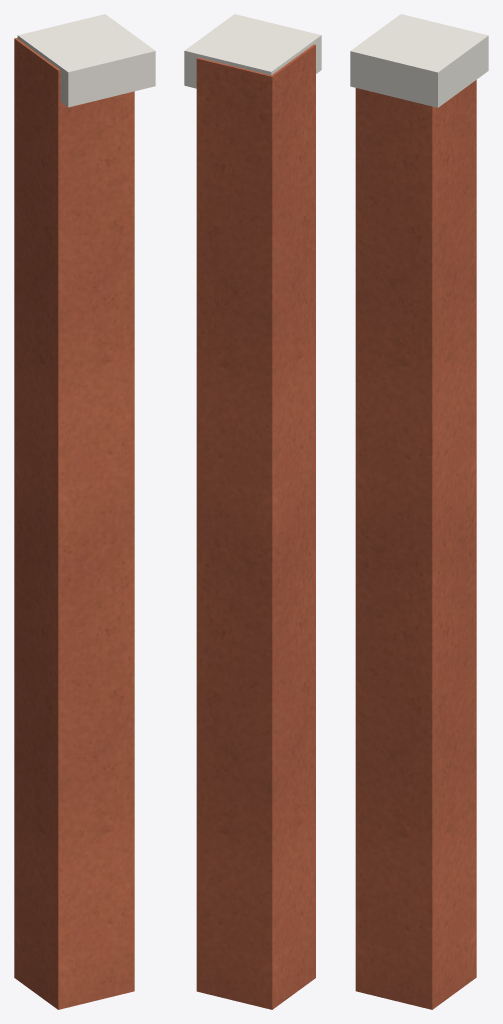
The model's file is corner_shop.glb.
The picture shows the model from 3 angles, left to right: view 1: azimuth 30°, elevation 25°; view 2: azimuth 150°, elevation 25°; view 3: azimuth 330°, elevation 25°; orthographic projection.
Visible parts, largest first — view 1: corner_shop_render, corner_shop_trim; view 2: corner_shop_render, corner_shop_trim; view 3: corner_shop_render, corner_shop_trim.
Boxes of the visible parts, x1,y1,x2,y2 form: corner_shop_render: (14,37,134,1009); corner_shop_trim: (17,14,155,107); corner_shop_render: (196,44,315,1009); corner_shop_trim: (184,14,321,88); corner_shop_render: (355,80,476,1009); corner_shop_trim: (350,14,488,107).
Bounding box in the file's own units: 0.4 × 4.01 × 0.4.
Materials: 2 (1 with a texture image).
